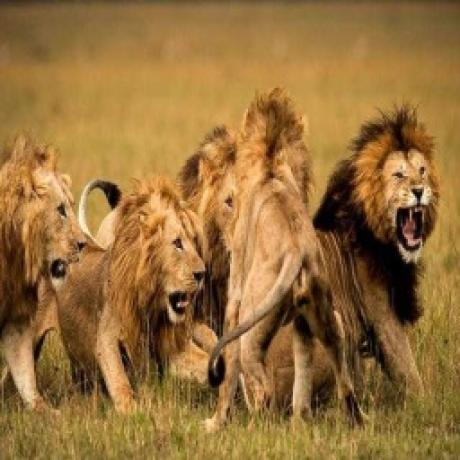Lion: (208, 90, 360, 416), (307, 101, 443, 412), (58, 172, 210, 408), (0, 133, 89, 410), (178, 125, 241, 270)
